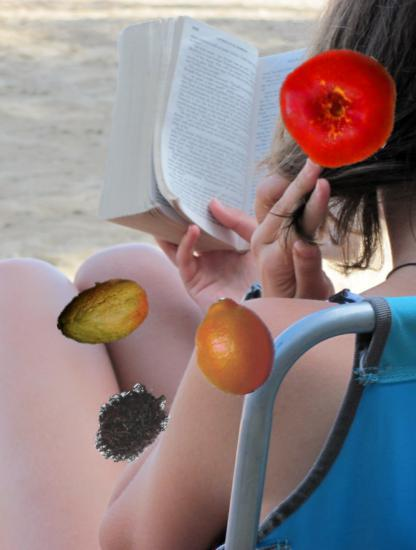Nectarine: (278, 46, 400, 168)
Papaya: (55, 265, 151, 361)
Rambutan: (88, 380, 174, 466)
Tangelo: (184, 297, 283, 396)
